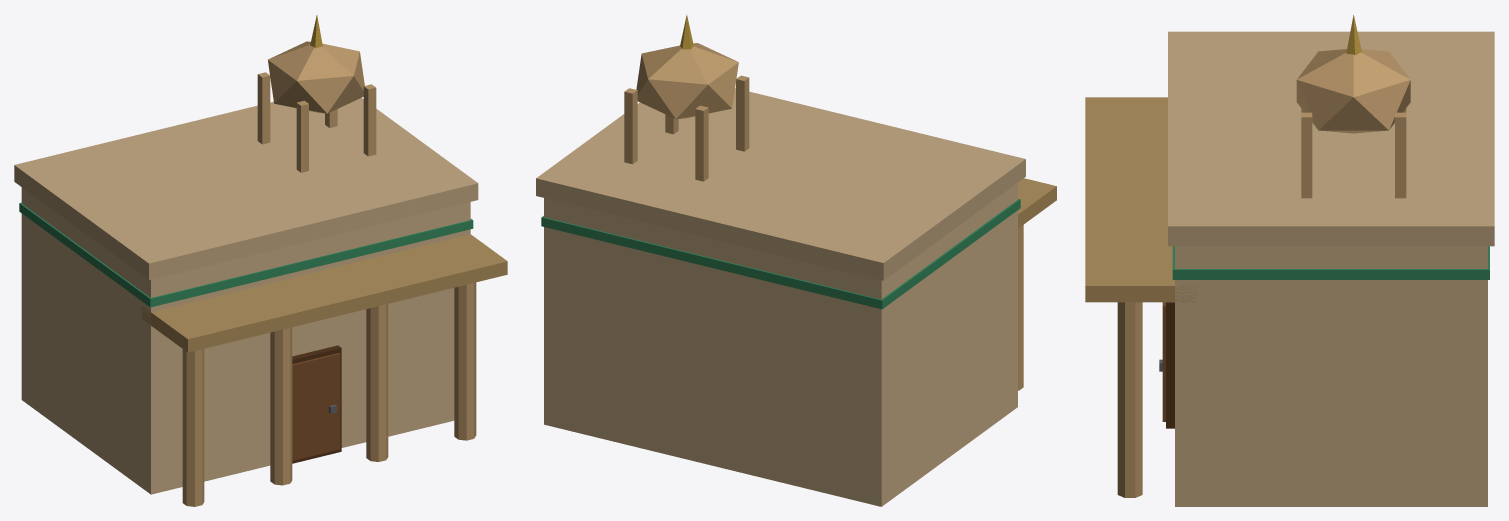
Rendered from cat_house_a.glb.
3 renders of one model, left to right at view 1: azimuth 30°, elevation 25°; view 2: azimuth 150°, elevation 25°; view 3: azimuth 270°, elevation 25°, orthographic. The views are drawn at different scales.
Visible parts, largest first — view 1: cat_house_a; view 2: cat_house_a; view 3: cat_house_a.
Boxes of the visible parts, bbox=[...] form: cat_house_a: bbox=[14, 15, 507, 506]; cat_house_a: bbox=[536, 14, 1056, 506]; cat_house_a: bbox=[1085, 15, 1494, 506].
Bounding box in the file's own units: 2.06 × 2.2 × 1.83.
